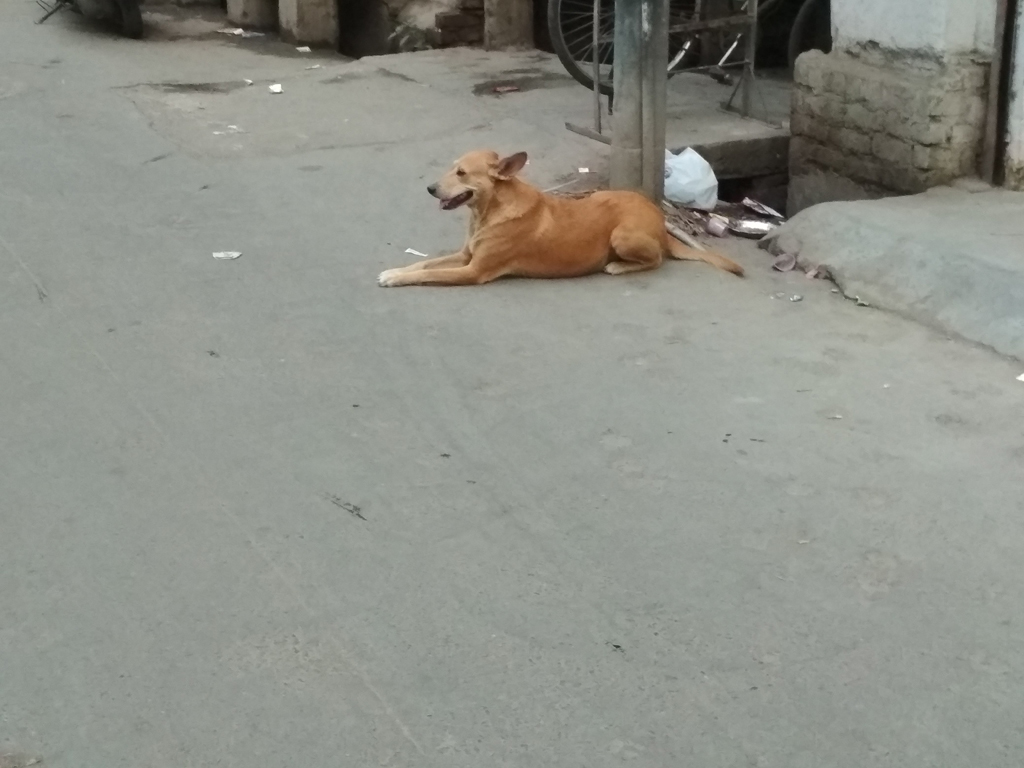dog: (376, 149, 748, 286)
